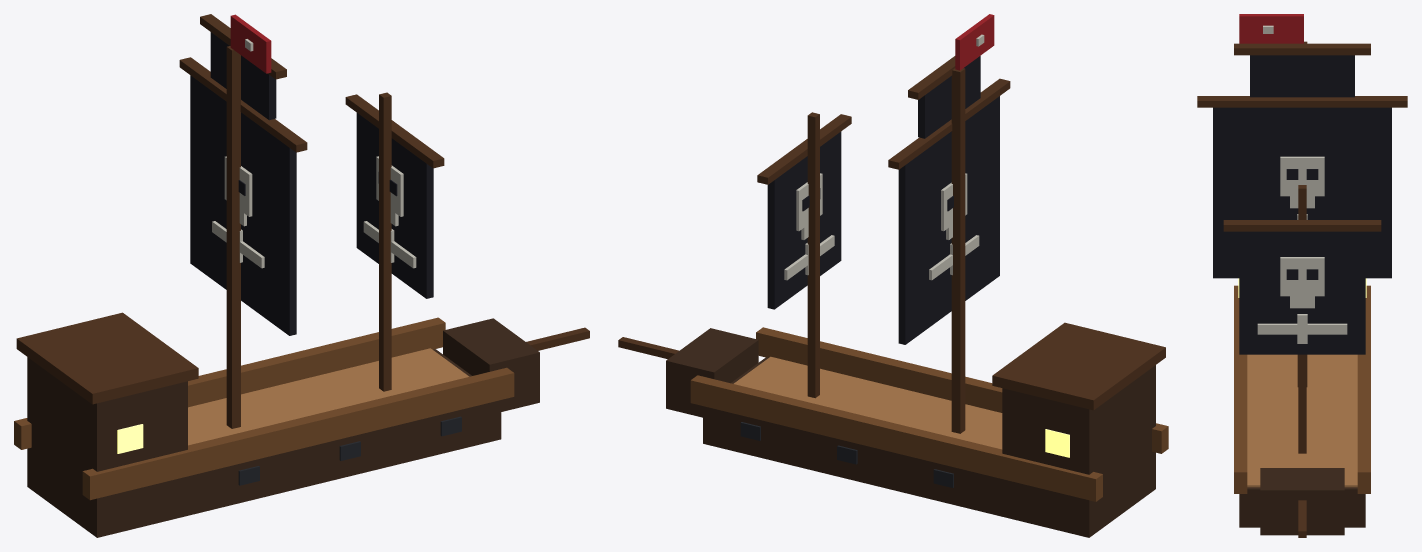
Rendered from dba-pirate-ship.glb.
3 views of the same model, side by side, from view 1: azimuth 30°, elevation 25°; view 2: azimuth 150°, elevation 25°; view 3: azimuth 270°, elevation 25° (orthographic). The views are drawn at different scales.
Visible parts, largest first — view 1: box-prop; view 2: box-prop; view 3: box-prop.
Boxes of the visible parts, x1,y1,x2,y2 form: box-prop: [14, 14, 589, 537]; box-prop: [618, 14, 1168, 537]; box-prop: [1197, 14, 1407, 537].
Size of the model in its own units: 10.6 by 8.6 by 4.
